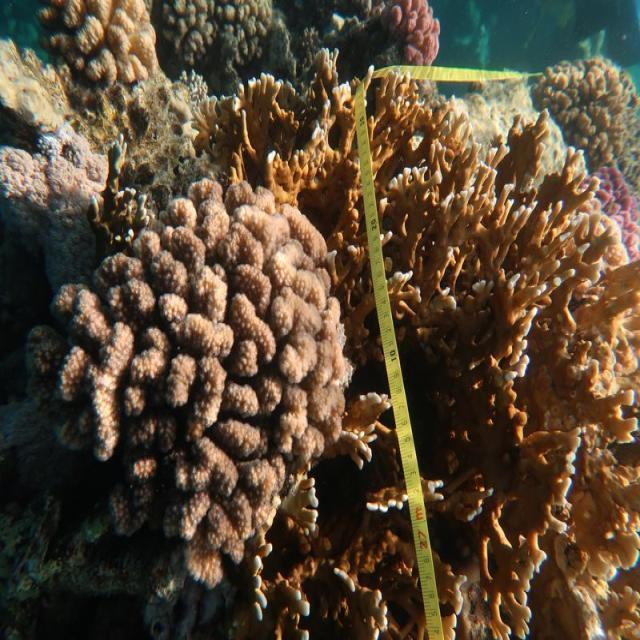Healthy Coral: (372, 106, 640, 637), (54, 179, 352, 586), (198, 75, 361, 218), (40, 0, 158, 83), (593, 166, 640, 258), (382, 0, 439, 64)
